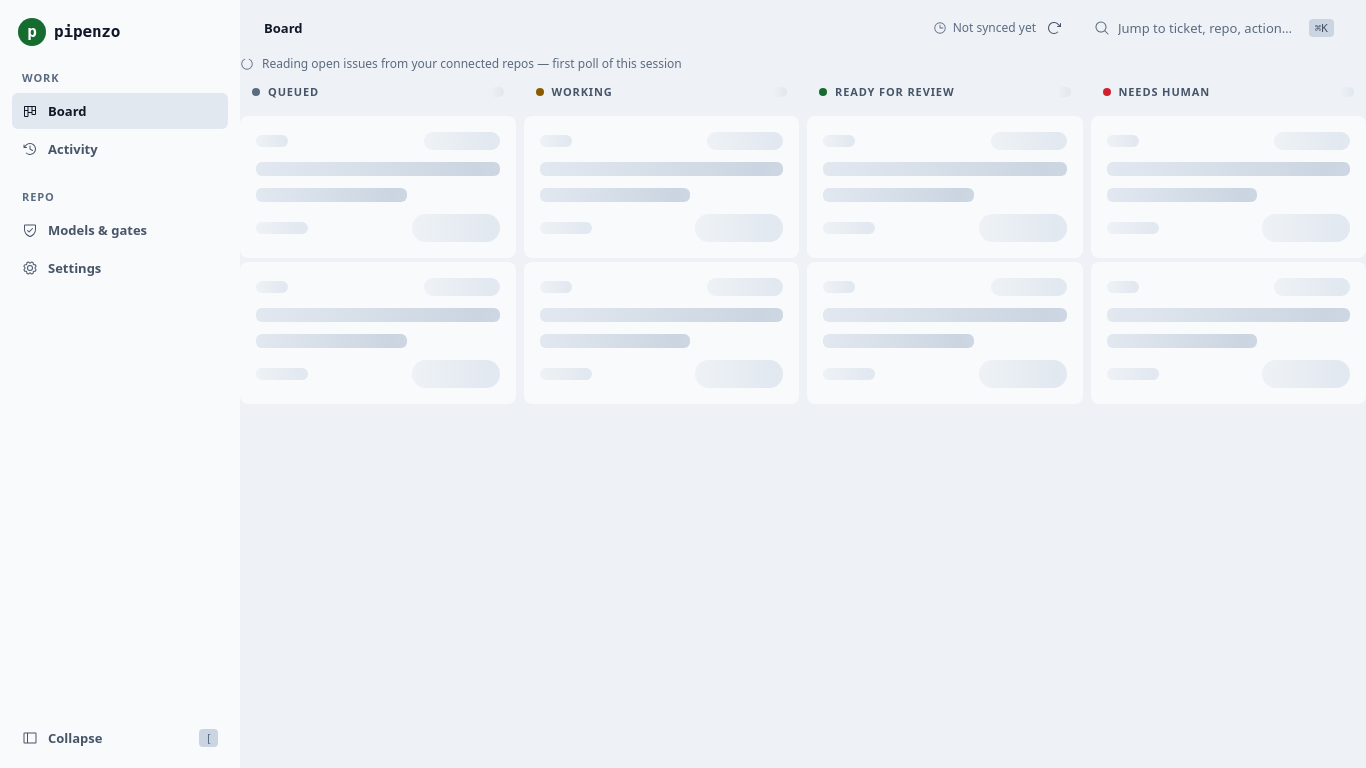
it: AppRoot manual-refresh failure toast (issue #77) › shows a non-auto-dismissing danger toast when a manual sync refresh fails, and retries on its action
The image size is (1366, 768).
Expected: the button "Board" is shown, [12, 93, 228, 129]
Click the button named "Refresh now" at (1054, 28), box [1042, 16, 1066, 40]
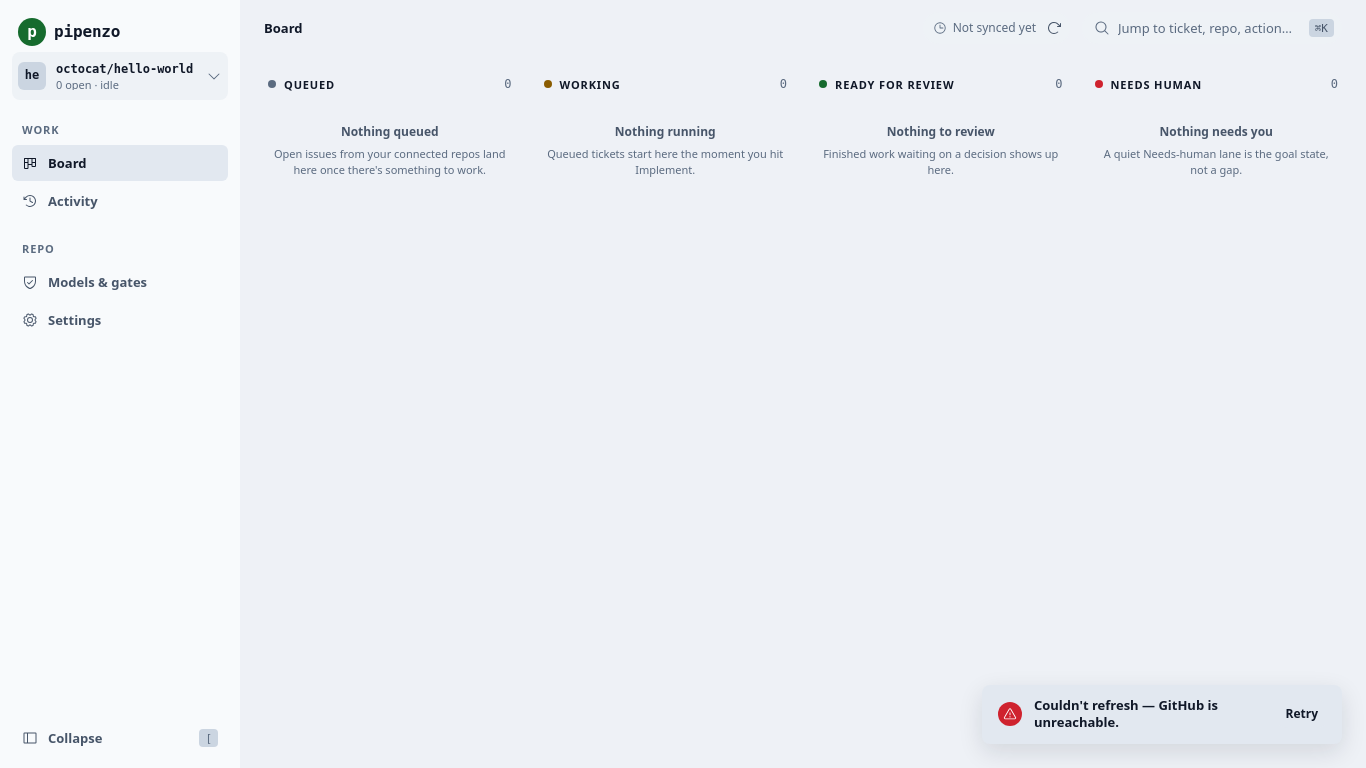
Expected: the text "Couldn't refresh — GitHub is unreachable." is shown, [1034, 696, 1218, 731]
Click the button "Retry" at (1302, 714), box [1274, 700, 1330, 728]
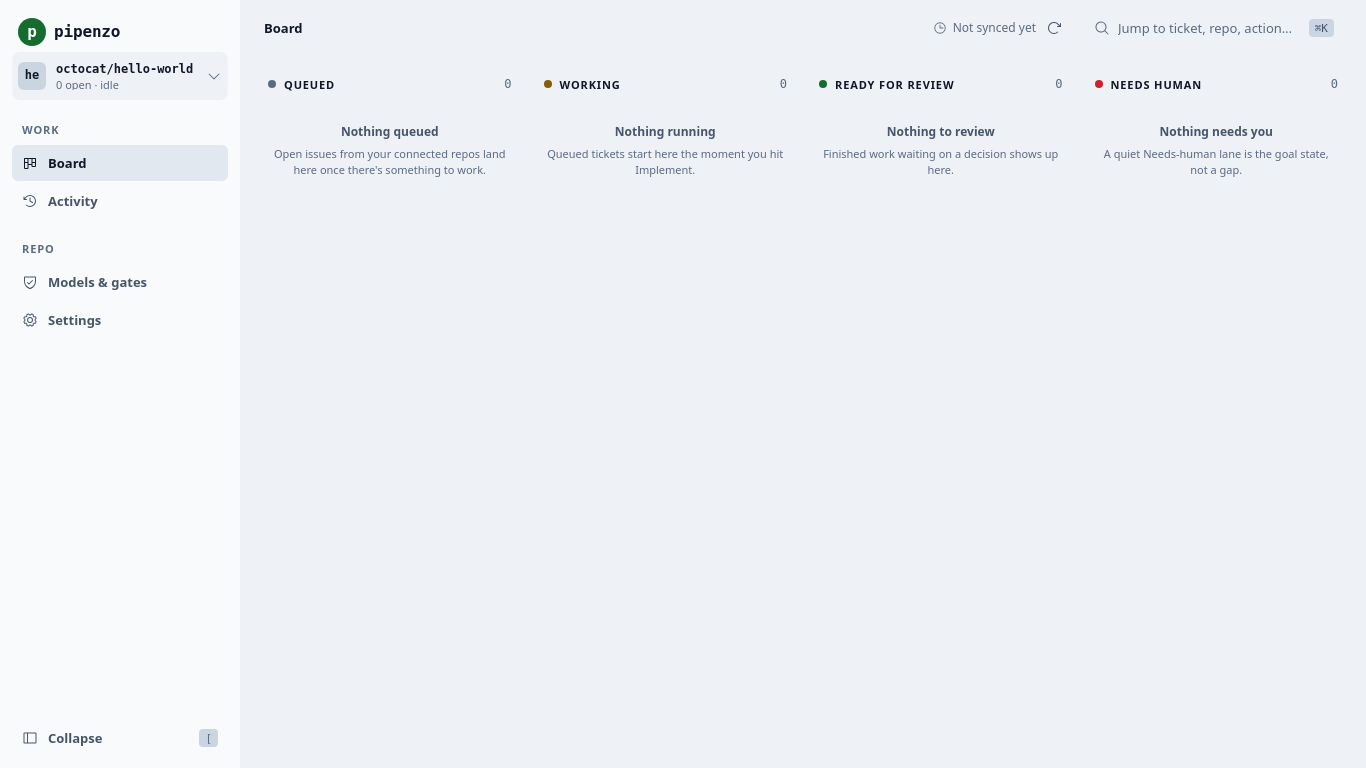
Expected: the text "Couldn't refresh — GitHub is unreachable." is gone
